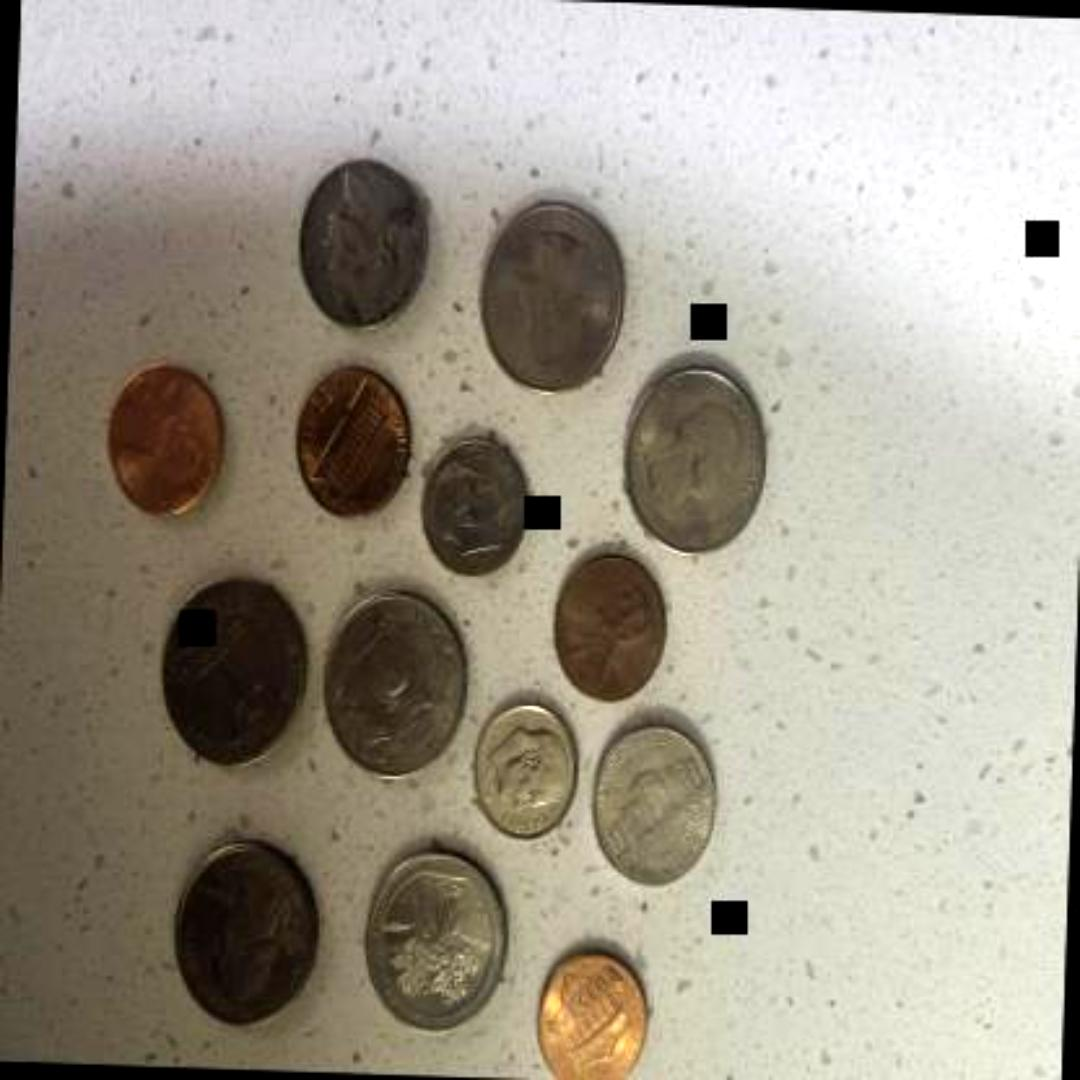Dime: (415, 420, 537, 582), (466, 684, 582, 842)
Nickel: (292, 140, 438, 338), (588, 714, 724, 894)
Penny: (288, 353, 418, 521), (100, 354, 230, 520), (544, 547, 668, 705), (528, 932, 656, 1080)
Quarter: (469, 180, 632, 398), (352, 832, 516, 1038), (317, 578, 475, 790), (153, 568, 316, 770), (612, 356, 772, 558), (166, 835, 324, 1029)
